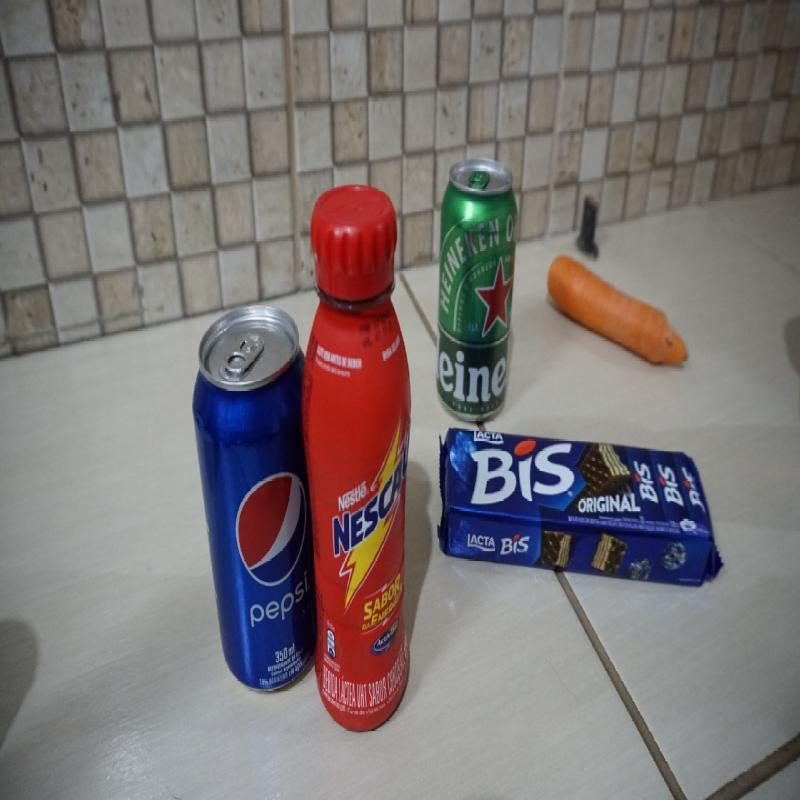Beer can: (434, 158, 516, 424)
Carrot: (548, 257, 691, 368)
Chocolate Milk: (300, 184, 411, 733)
Soda can: (190, 305, 318, 693)
